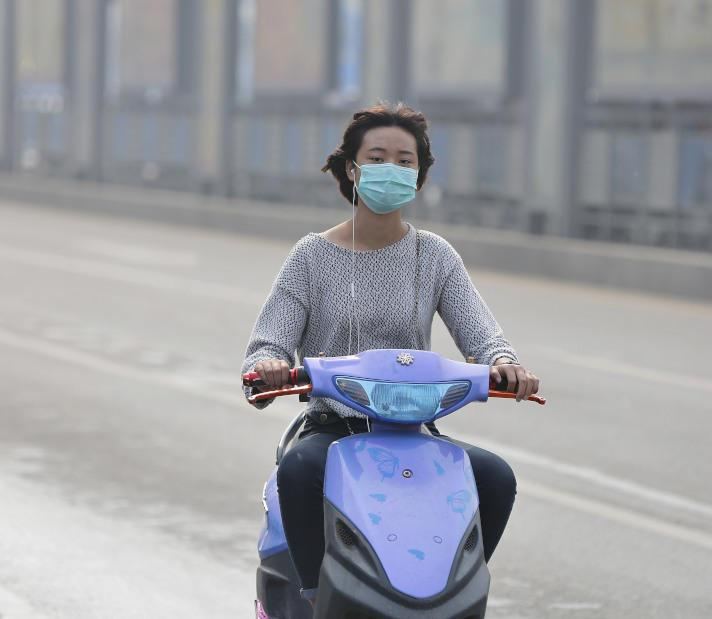OK: (356, 140, 428, 212)
